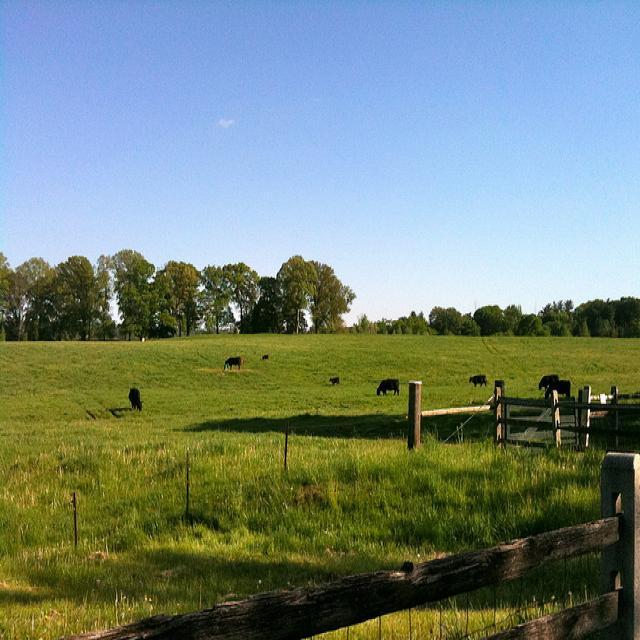cow: (537, 372, 558, 397), (544, 377, 569, 397), (376, 376, 398, 395), (127, 386, 143, 408), (224, 353, 243, 369), (466, 373, 485, 386), (327, 374, 338, 383), (259, 349, 269, 358)
